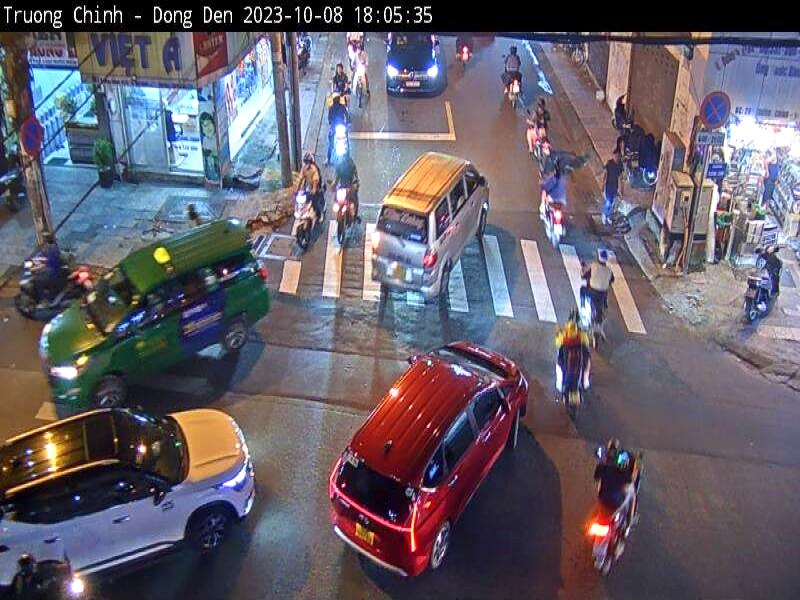car: (314, 326, 540, 582), (25, 208, 280, 415), (0, 392, 260, 587), (368, 139, 494, 311), (378, 30, 448, 100)
motorcycle: (727, 237, 791, 327)
